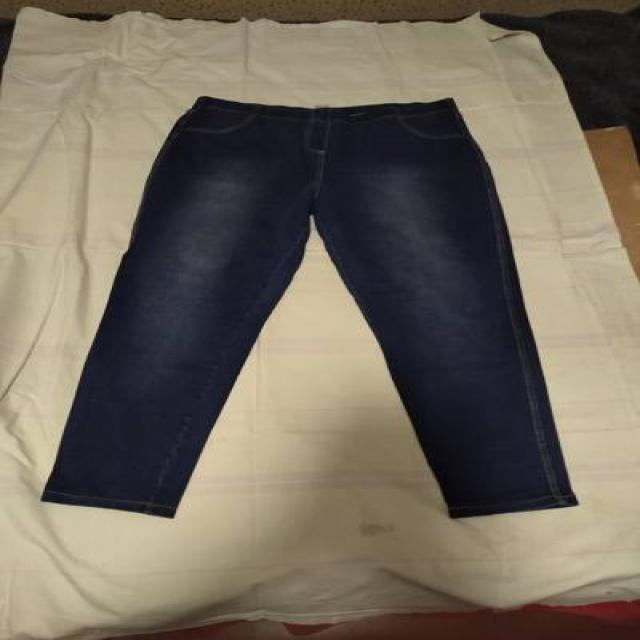Clothes -Biodegradable-: (37, 91, 584, 520)
